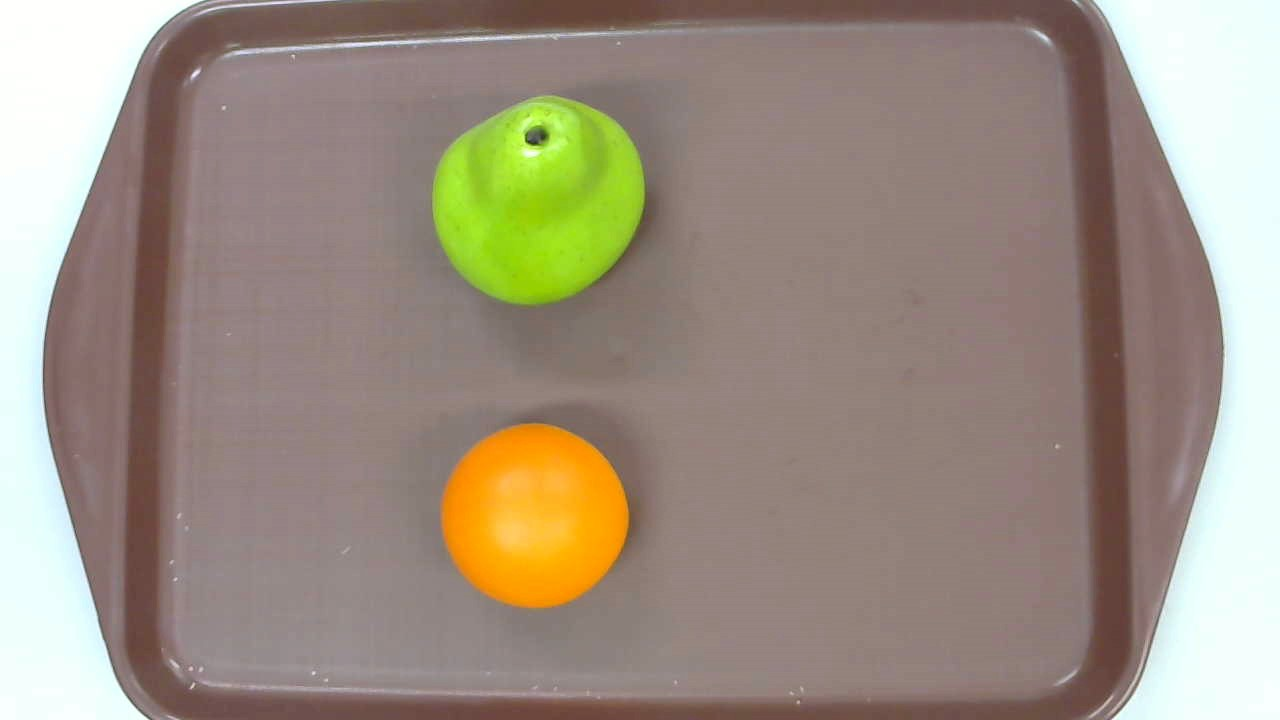bun: (441, 422, 629, 608)
green pear: (430, 96, 645, 305)
